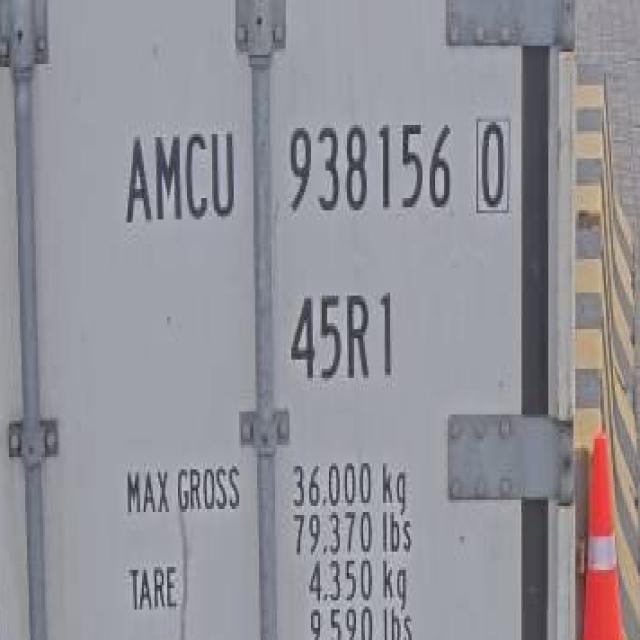dv: (471, 110, 515, 216)
owner: (118, 119, 242, 242)
serial: (280, 106, 453, 225)
size: (285, 282, 406, 389)
